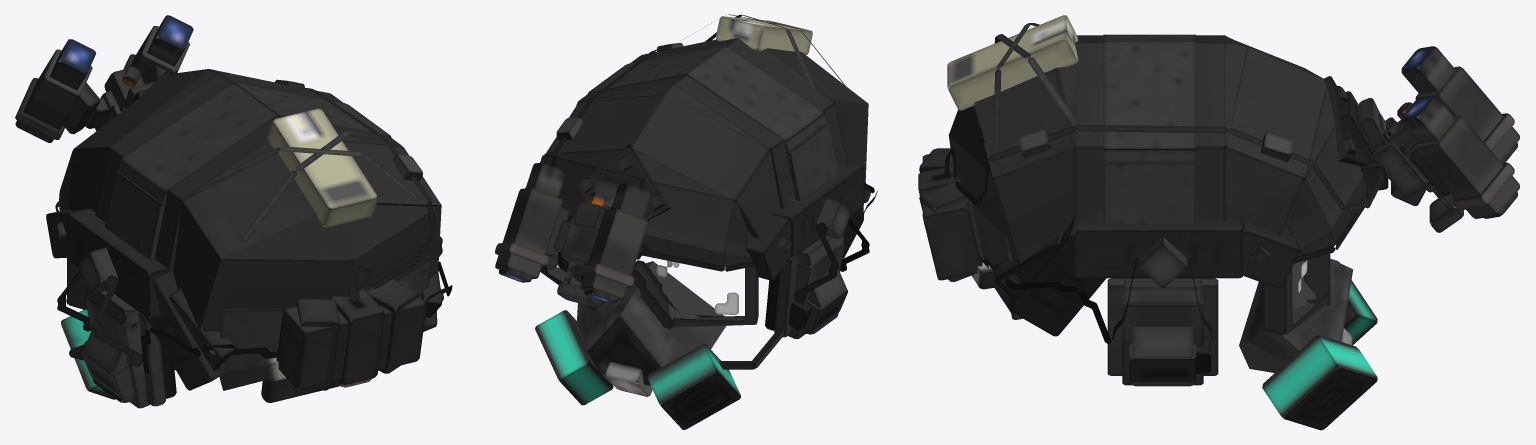
The model's file is cqb_kit_h.obj.
The picture shows the model from 3 angles, left to right: view 1: azimuth 30°, elevation 25°; view 2: azimuth 150°, elevation 25°; view 3: azimuth 270°, elevation 25°; orthographic projection. The views are drawn at different scales.
Visible parts, largest first — view 1: plane; view 2: plane; view 3: plane.
Boxes of the visible parts, x1,y1,x2,y2 form: plane: [15, 15, 452, 408]; plane: [495, 14, 877, 429]; plane: [918, 15, 1519, 430].
Size of the model in its own units: 1.01 by 0.89 by 1.3.
